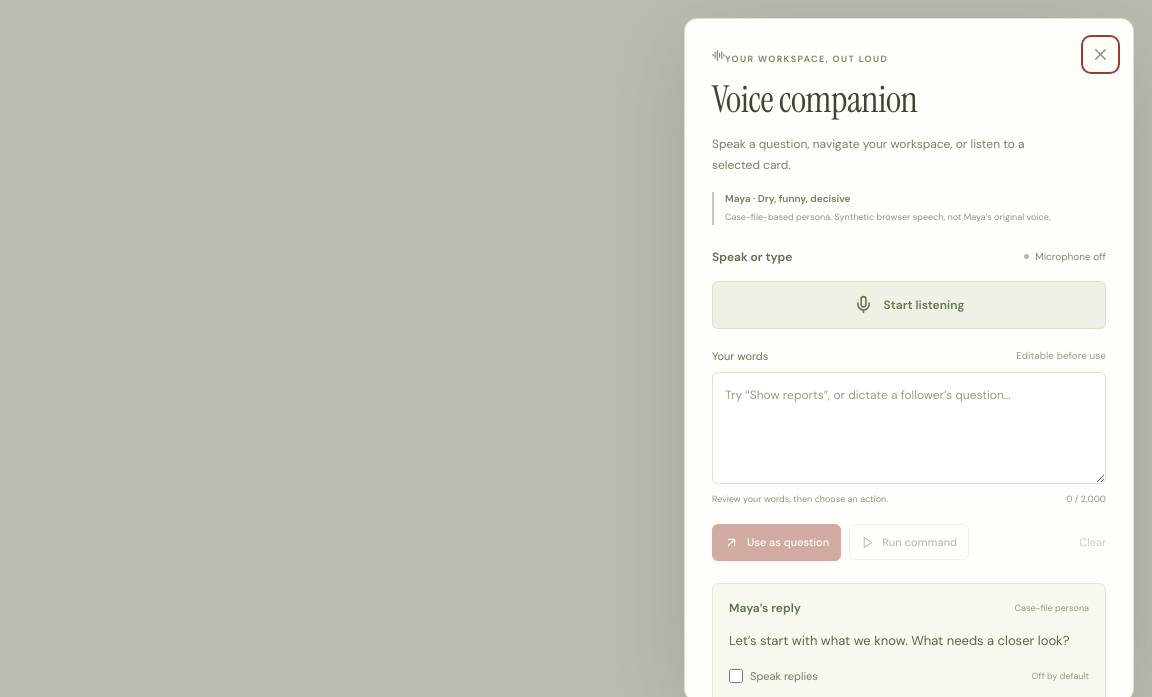
Voice companion with simulated browser speech APIs › bounds dictation and stops capture when the transcript is full
What coordinates should you click on to do the following:
click the button "Start listening"
I would click on:
 (909, 305)
Its box is [712,281,1106,329].
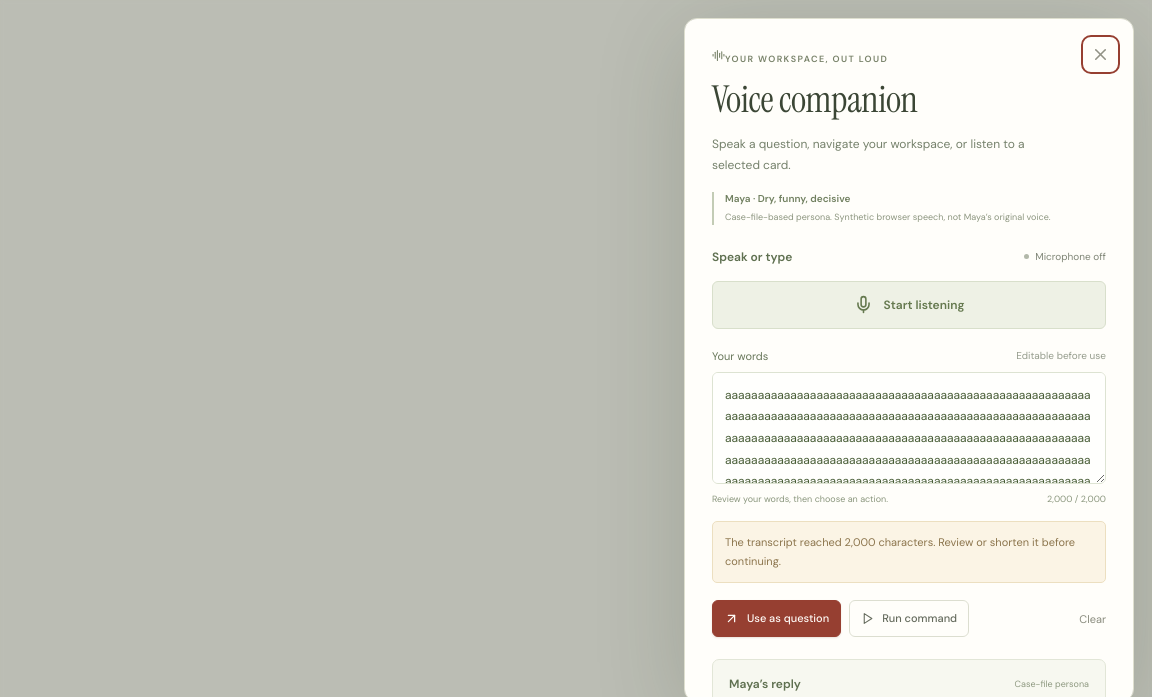
Check: the text "The transcript reached 2,000 characters" is shown, box [725,535,1075,568]
